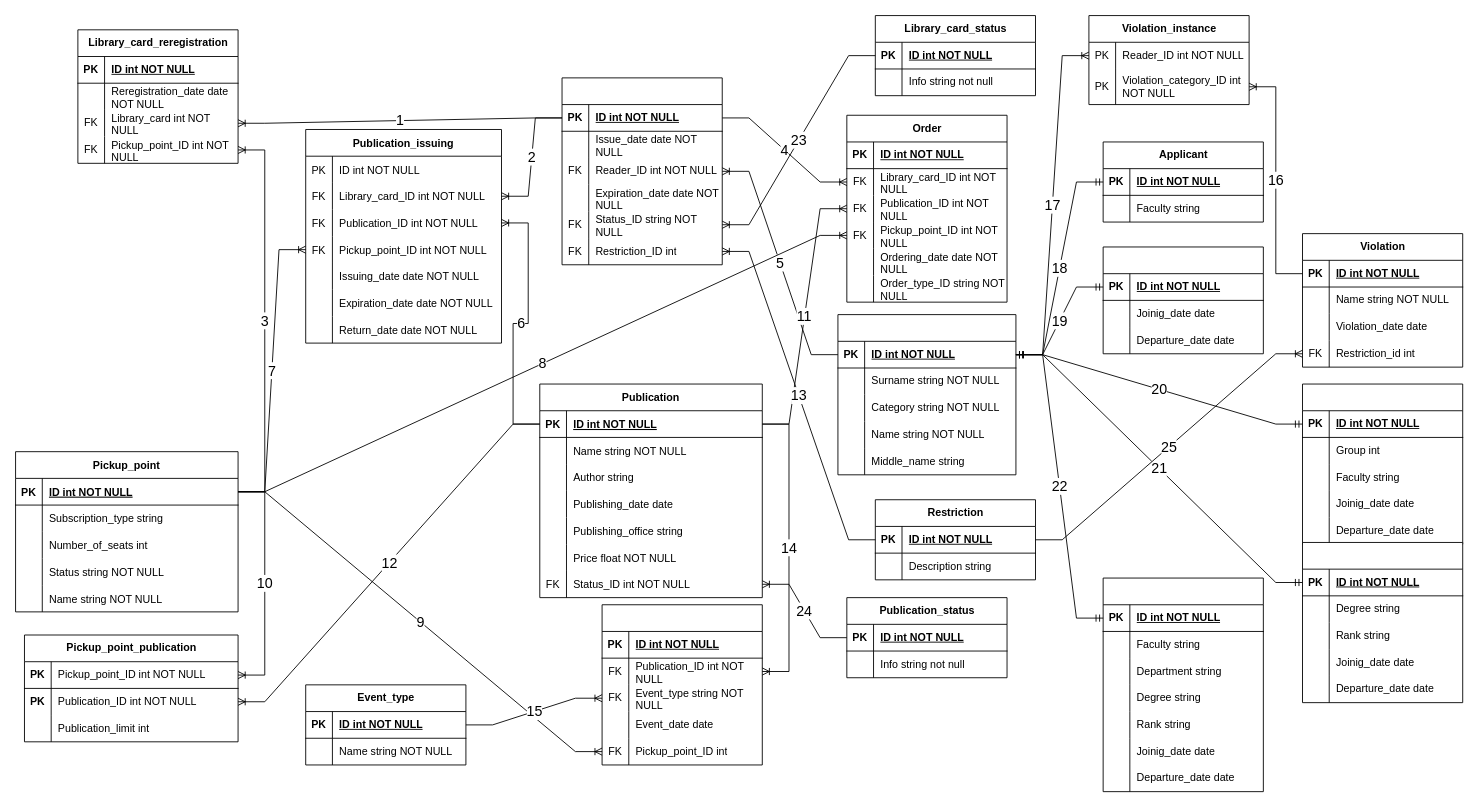
Image size: 1478x807. Some labels were removed from this diagram. The shapes that lost their labels are listed below. From the top down, each one's box as (x1, y1, x2, y2) in pixels, then its label:
(561, 77, 722, 265): Library_card
(1102, 246, 1263, 354): University_employee
(837, 314, 1016, 475): Reader
(1302, 383, 1463, 544): Student
(1302, 542, 1463, 703): Teacher
(601, 604, 762, 765): Publication_event
(1102, 577, 1263, 792): Science-worker
